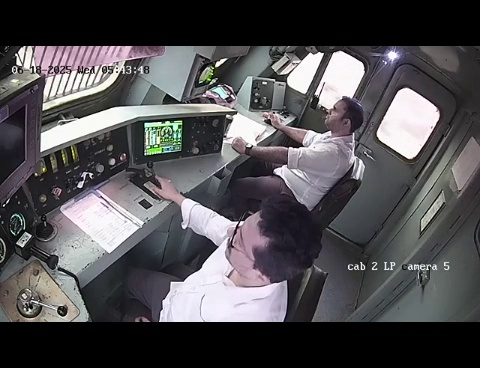brake_released: (0, 257, 97, 323)
horn_inactive: (28, 209, 70, 249)
